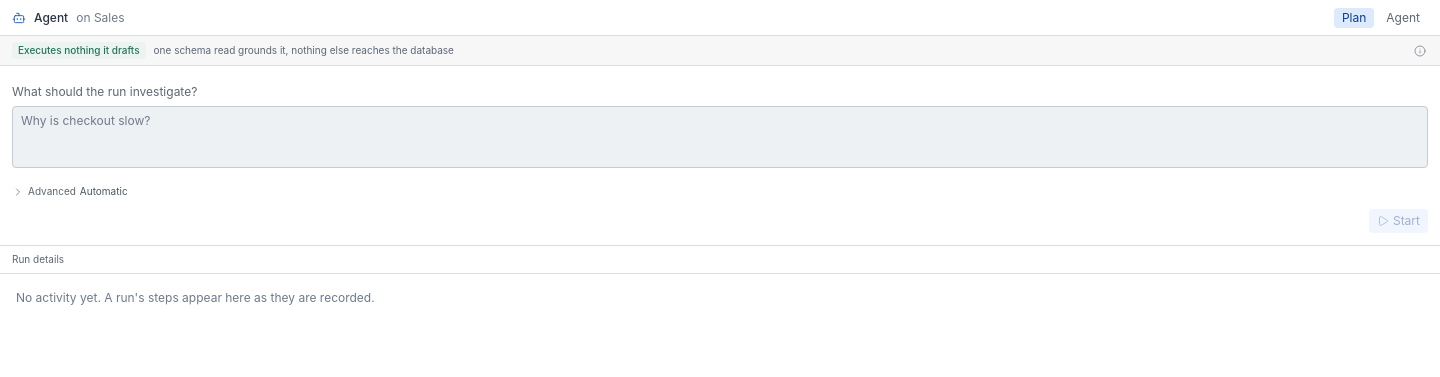
Test: AgentRail › a disabled conversation renders its own sentence
Type "chart those" into the text box with test id "agent-objective".
click(720, 137); type("chart those")  # box x1=12 y1=106 x2=1428 y2=168
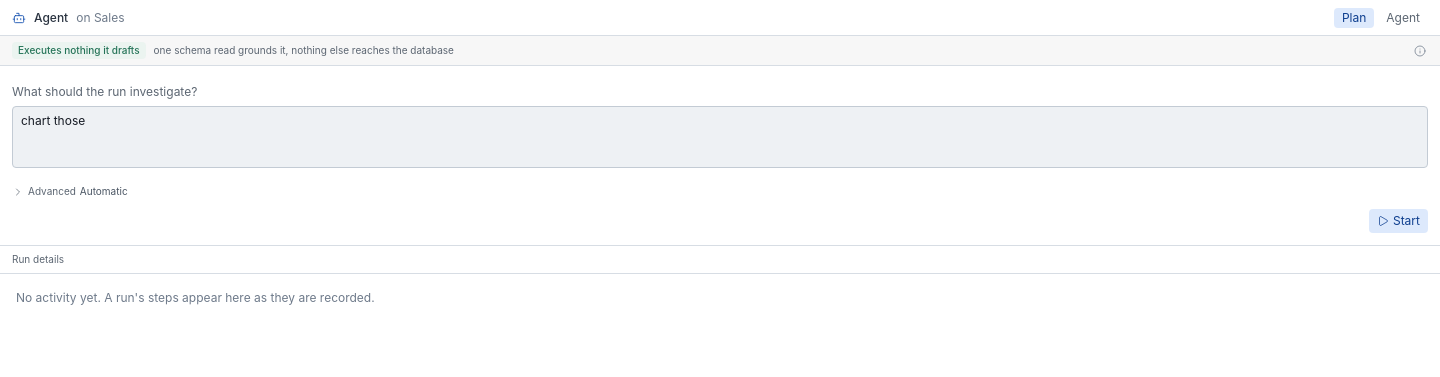
Click the button with test id "agent-start".
click(1398, 221)  # box x1=1369 y1=209 x2=1428 y2=233
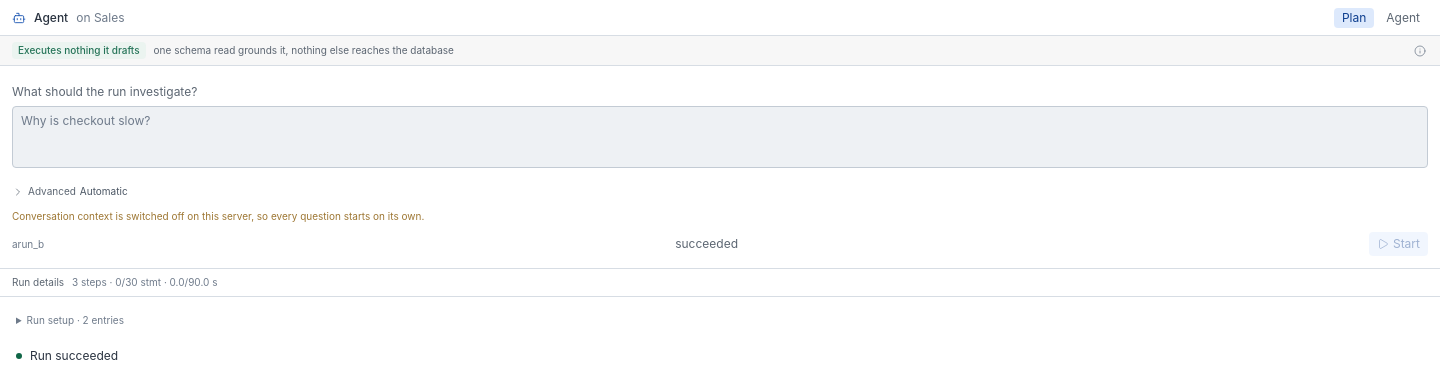
Check: the text with test id "agent-thread-notice" shows "Conversation context is switched off on this server, so every question starts on its own.", box x1=12 y1=210 x2=424 y2=222
